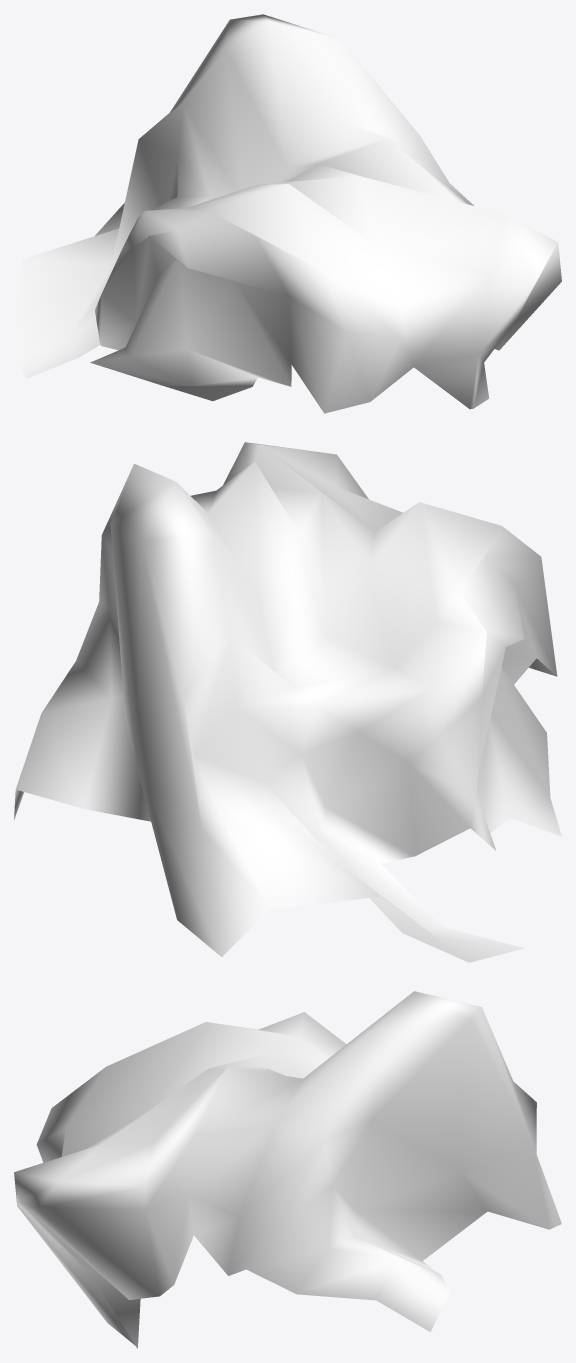
The model's file is fbx_trash_1.fbx.
The picture shows the model from 3 angles, top to bottom: view 1: azimuth 30°, elevation 25°; view 2: azimuth 150°, elevation 25°; view 3: azimuth 270°, elevation 25°; orthographic projection. The views are drawn at different scales.
Parts seen in each view (by area): view 1: fbx_trash_1; view 2: fbx_trash_1; view 3: fbx_trash_1.
Boxes of the visible parts, box(x1,y1,x2,y2) form: fbx_trash_1: box(14, 14, 561, 413); fbx_trash_1: box(14, 442, 561, 962); fbx_trash_1: box(14, 991, 561, 1348).
Bounding box in the file's own units: 0.1767 × 0.1386 × 0.2161.
1 material, 1 textured.
